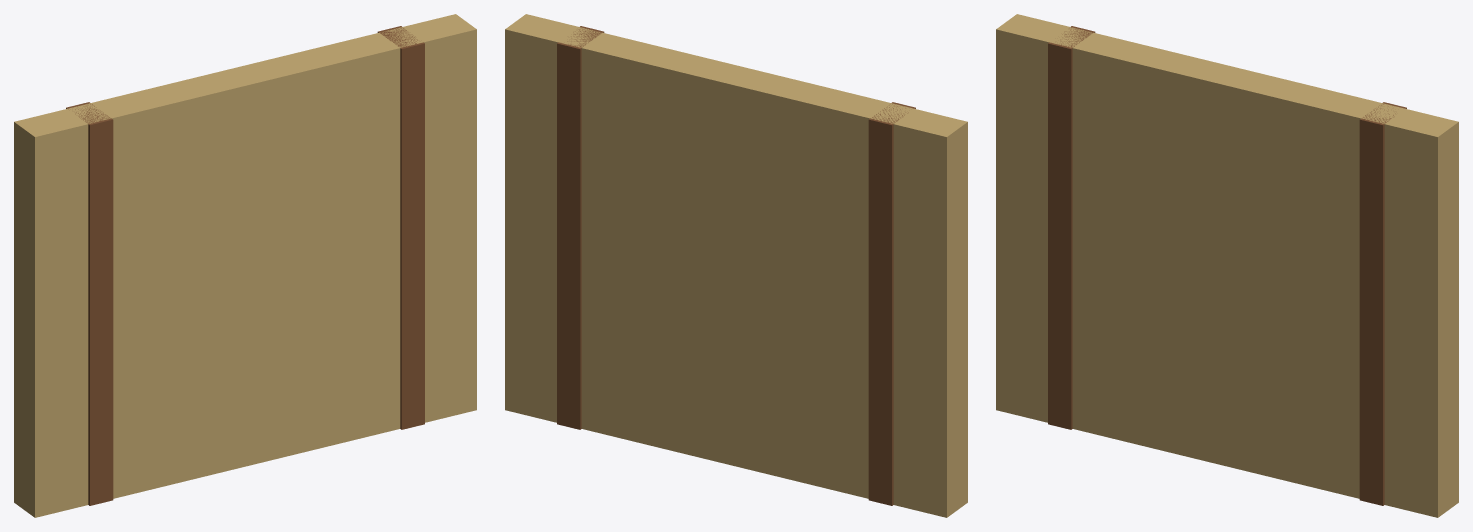
The model's file is wall_panel.glb.
3 renders of one model, left to right at view 1: azimuth 30°, elevation 25°; view 2: azimuth 150°, elevation 25°; view 3: azimuth 330°, elevation 25°, orthographic.
Parts seen in each view (by area): view 1: wall, beam_-12, beam_12; view 2: wall, beam_-12, beam_12; view 3: wall, beam_12, beam_-12.
Boxes of the visible parts, box(x1,y1,x2,y2) form: wall: box(14, 14, 476, 517); beam_-12: box(66, 102, 113, 505); beam_12: box(377, 26, 424, 429); wall: box(505, 14, 967, 517); beam_-12: box(868, 102, 915, 505); beam_12: box(557, 26, 604, 429); wall: box(996, 14, 1458, 517); beam_12: box(1359, 102, 1406, 505); beam_-12: box(1048, 26, 1095, 429).
Size of what is drawn, in the model's own units: 3.4 by 2.8 by 0.32.
